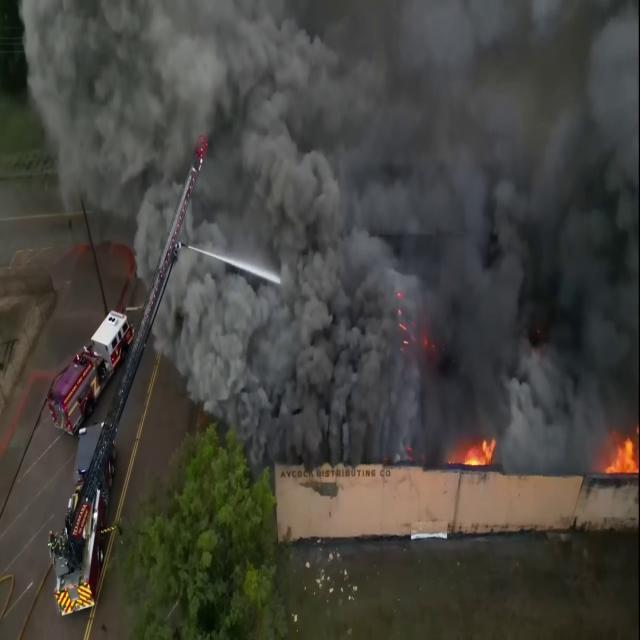Fire: (594, 418, 640, 478), (444, 422, 501, 468)
Smoke: (18, 1, 640, 435)
